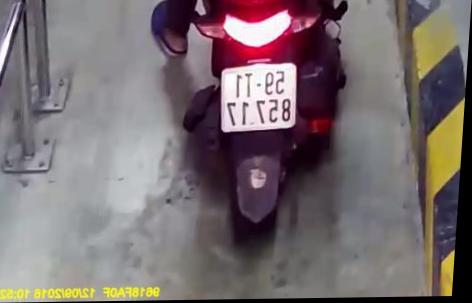License_Plate: (209, 56, 307, 136)
